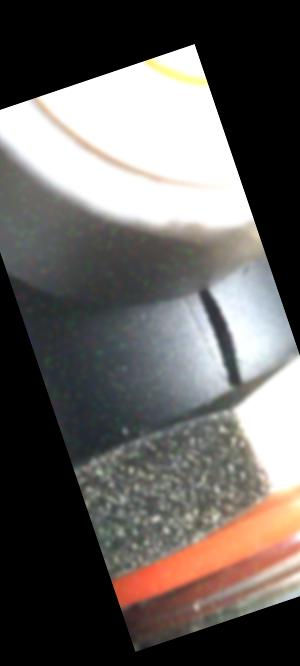craze: (196, 280, 256, 390)
joint line: (181, 292, 219, 374)
